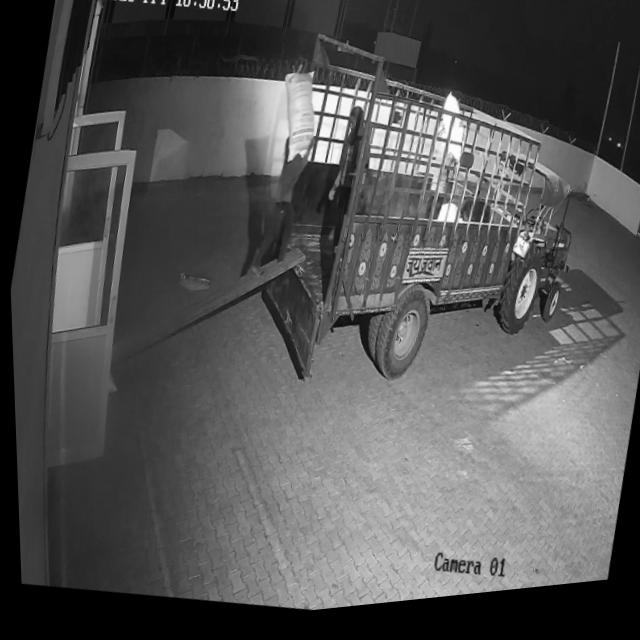sack: (269, 71, 325, 173)
